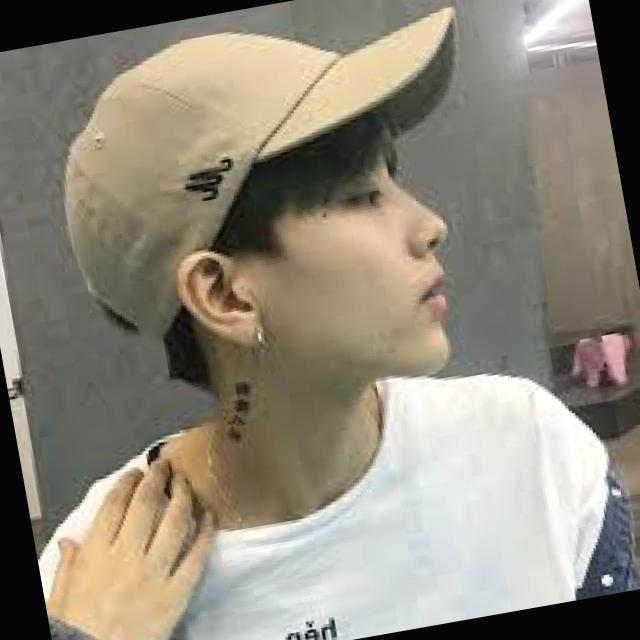cap: (14, 0, 537, 362)
